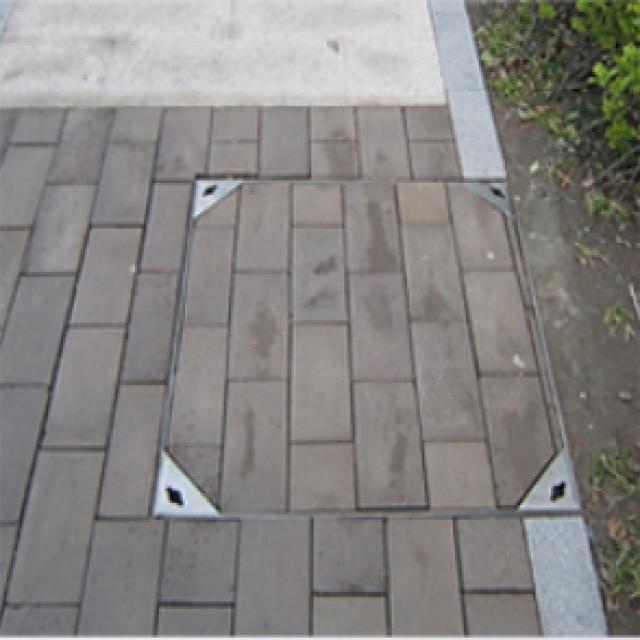manhole: (160, 175, 566, 518)
